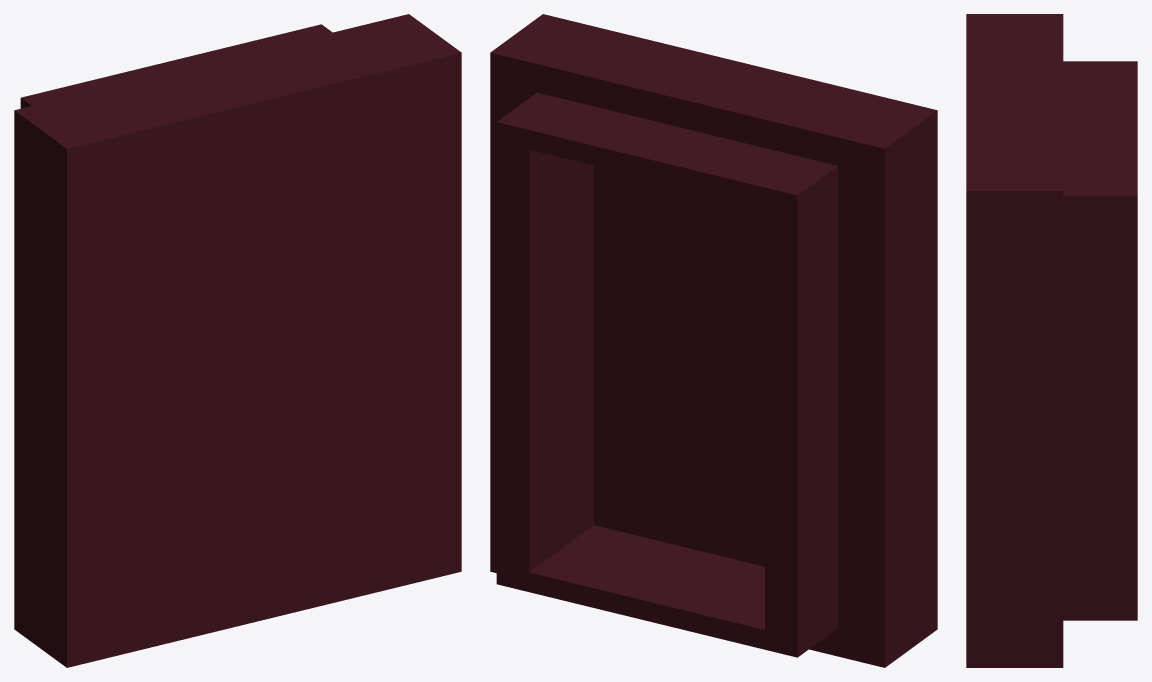
File: Itr_Obj_Fridge1_Bottom_Door_Left_04.FBX
The picture shows the model from 3 angles, left to right: view 1: azimuth 30°, elevation 25°; view 2: azimuth 150°, elevation 25°; view 3: azimuth 270°, elevation 25°; orthographic projection. The views are drawn at different scales.
Visible parts, largest first — view 1: Itr_Obj_Fridge1_Bottom_Door_Left_04; view 2: Itr_Obj_Fridge1_Bottom_Door_Left_04; view 3: Itr_Obj_Fridge1_Bottom_Door_Left_04.
Boxes of the visible parts, left/top/right/bottom form: Itr_Obj_Fridge1_Bottom_Door_Left_04: left=14, top=14, right=461, bottom=667; Itr_Obj_Fridge1_Bottom_Door_Left_04: left=490, top=14, right=937, bottom=667; Itr_Obj_Fridge1_Bottom_Door_Left_04: left=966, top=14, right=1137, bottom=667.
Size of the model in its own units: 22.45 by 28.21 by 9.19.
